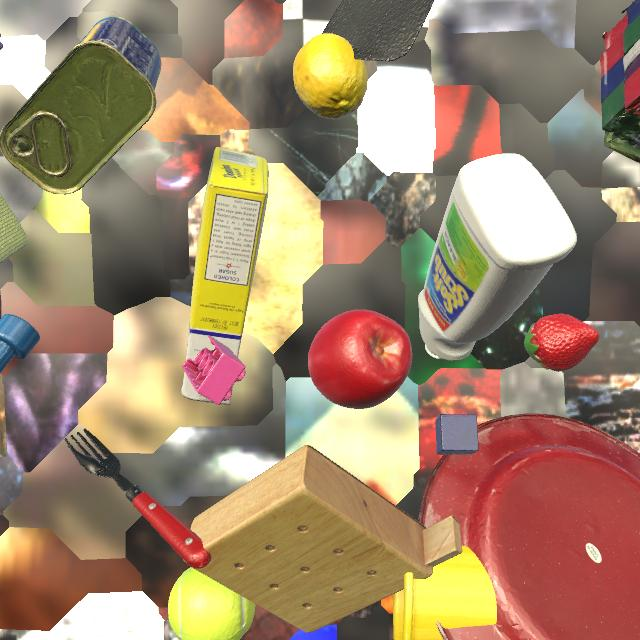ycb_004_sugar_box: (181, 147, 269, 405)
ycb_010_potted_meat_can: (0, 16, 161, 195)
ycb_012_strawberry: (524, 313, 600, 372)
ycb_013_apple: (308, 309, 412, 409)
ycb_014_lemon: (293, 33, 368, 119)
